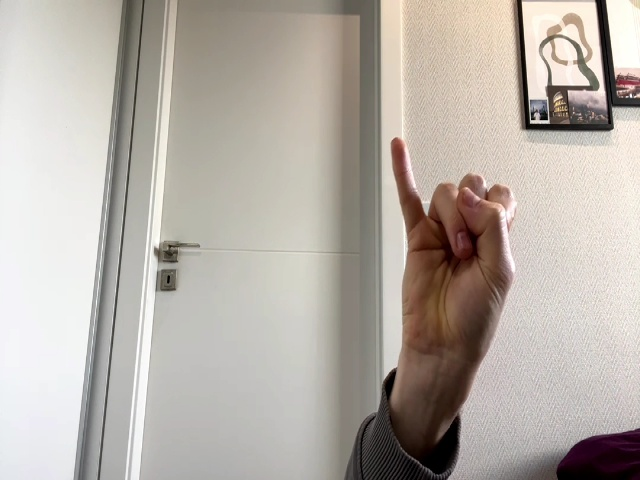I: (391, 138, 517, 354)
